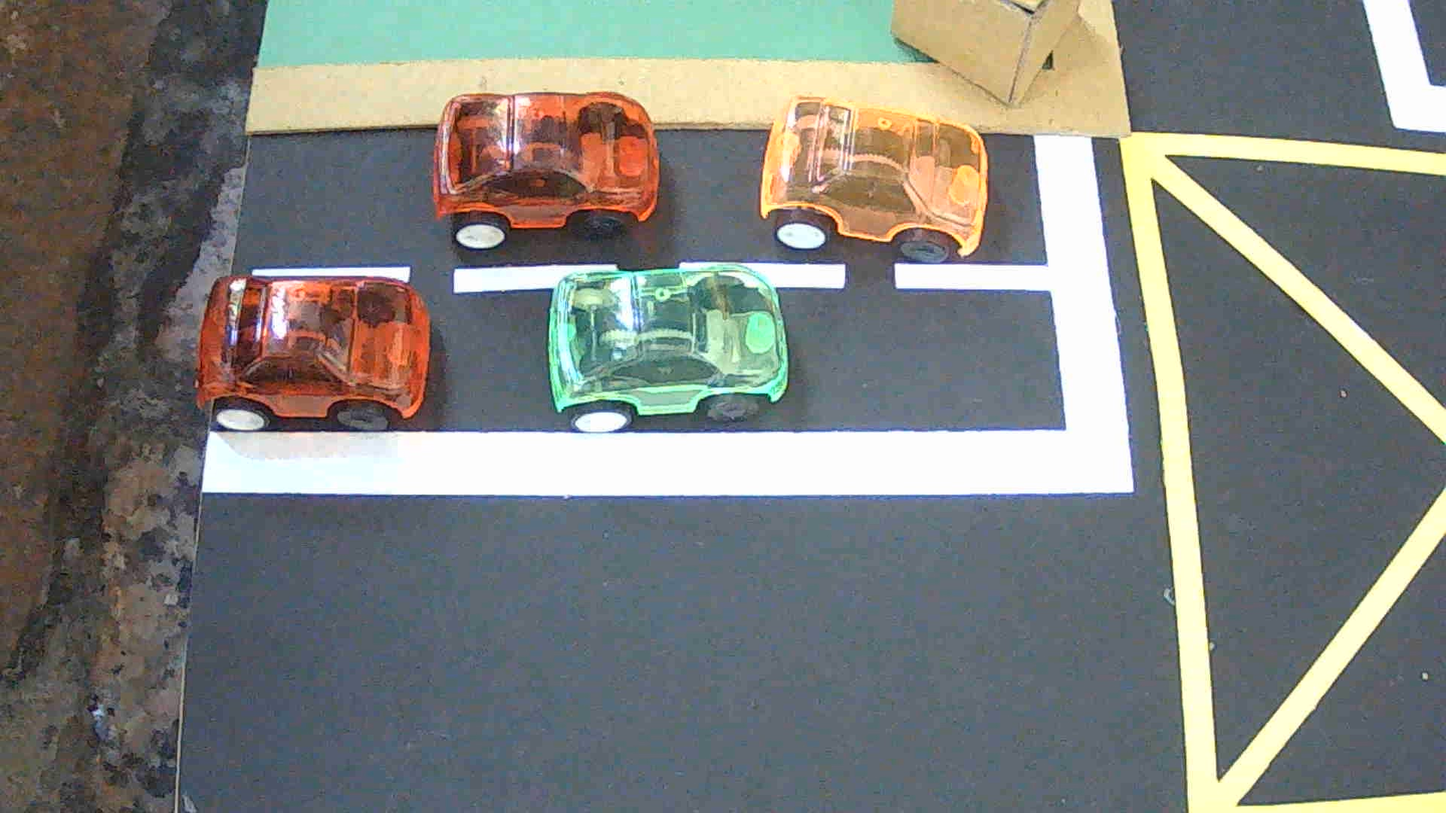Mobil hijau: (548, 263, 789, 433)
Mobil merah: (195, 276, 429, 431), (432, 93, 659, 250)
Mobil orange: (760, 96, 987, 263)
